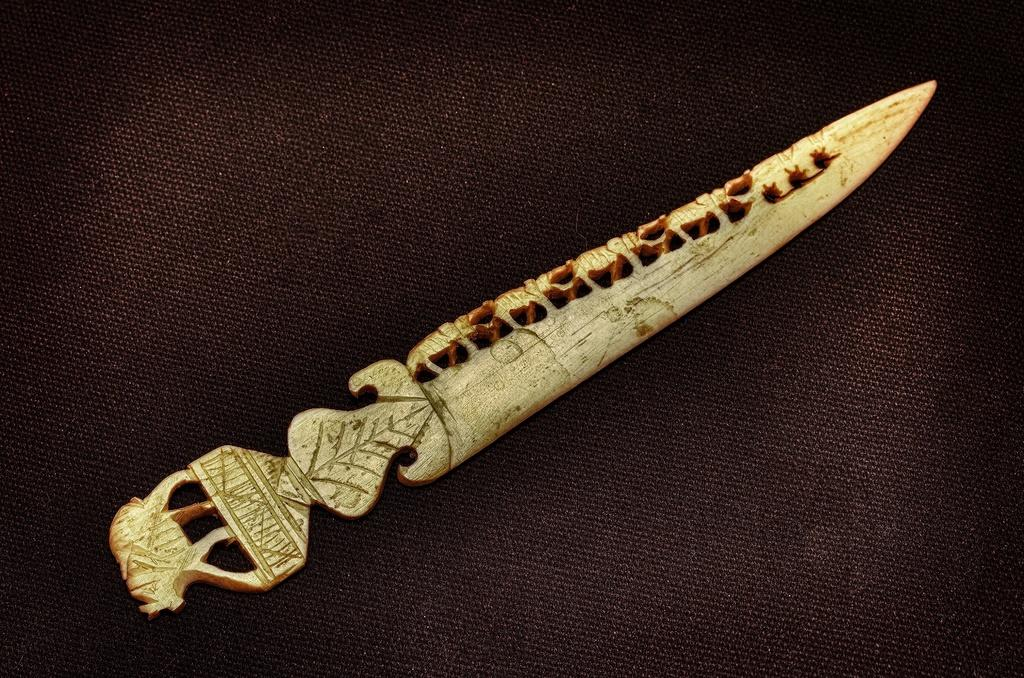knife: (108, 81, 939, 623)
